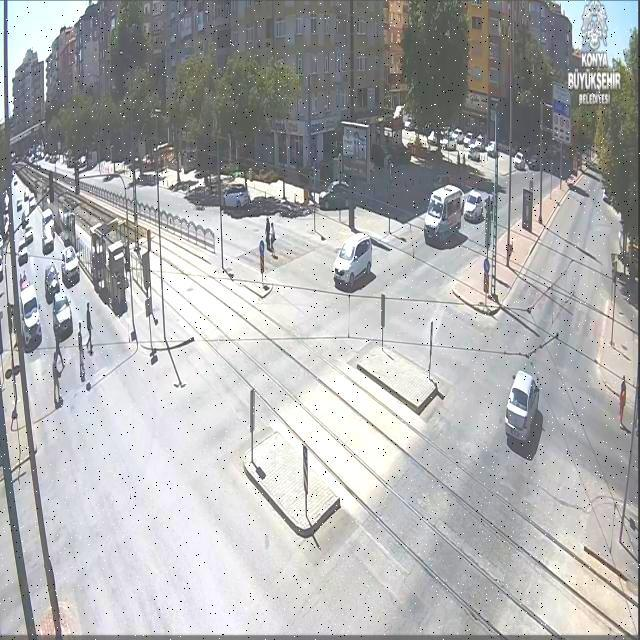Car: (503, 369, 541, 446), (332, 233, 372, 286), (19, 281, 41, 347), (52, 293, 73, 340), (318, 181, 353, 209), (463, 190, 492, 222), (61, 246, 80, 286), (41, 209, 56, 253), (45, 263, 60, 299), (22, 222, 34, 247), (18, 240, 29, 267), (513, 152, 526, 170), (26, 192, 37, 213), (427, 136, 440, 151), (470, 139, 484, 152), (20, 213, 30, 230), (485, 141, 497, 155), (462, 133, 474, 147), (447, 130, 459, 144), (15, 194, 23, 214), (455, 130, 466, 144), (602, 188, 611, 204), (403, 118, 415, 130), (567, 173, 577, 187), (440, 129, 450, 141), (13, 178, 18, 186)
